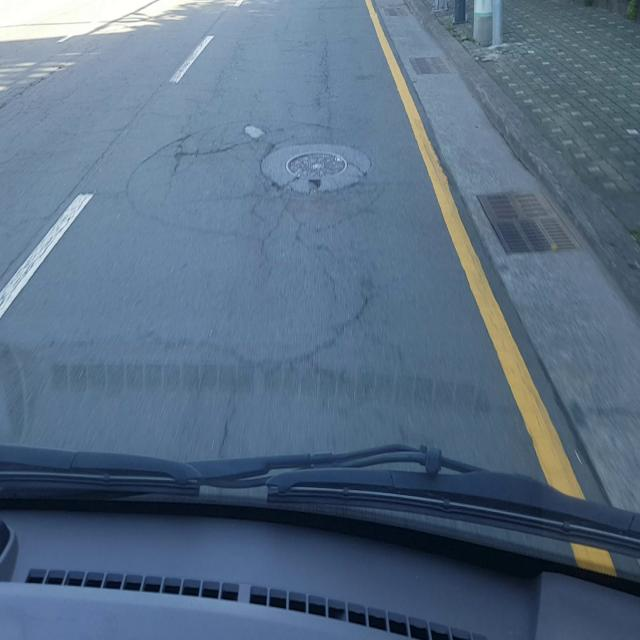Pothole: (272, 150, 366, 190)
